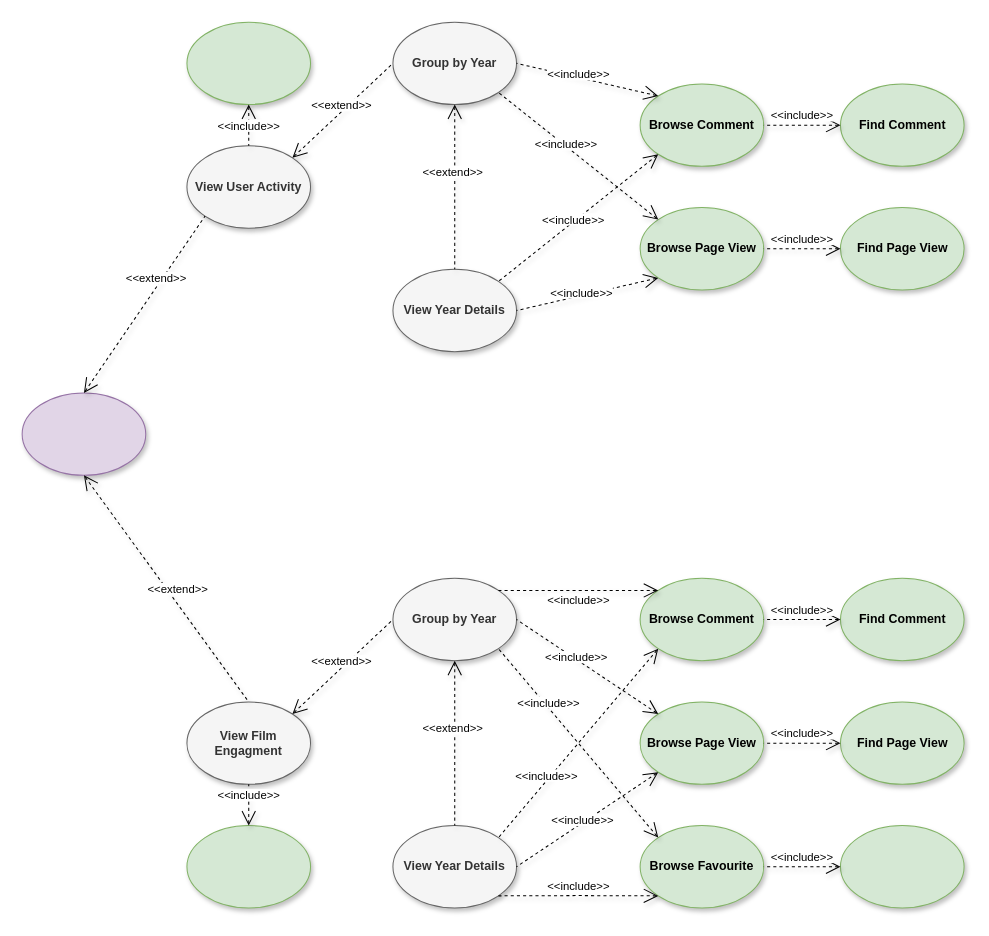
Image size: 989x936. Some labels were removed from this diagram. Here are the shapes that lost their labels. From the top down, the centre of each, then its label:
point 249,64: Find User
point 84,435: View Engagment-Activity
point 249,867: Find Film
point 902,867: Find Favourite
